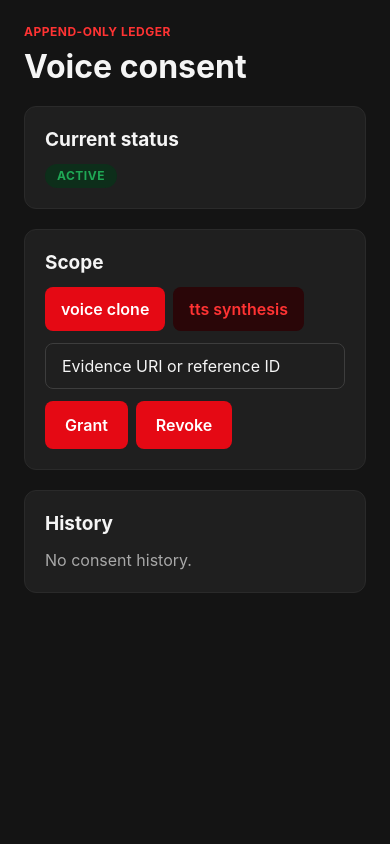
Test: compliance screens › HP-3: revoke consent posts without evidence and reloads inactive status
Expected: the text "Active" is shown, [57, 168, 105, 184]
Click the button with test id "consent-revoke": [184, 425] box [136, 401, 232, 449]
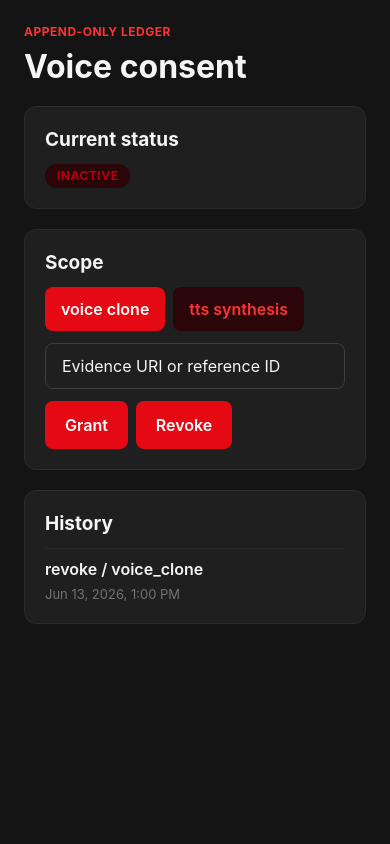
Result: the element with test id "consent-row-consent-2" is shown at [45, 548, 345, 603]
Result: the text "Inactive" is shown at [57, 168, 118, 184]
